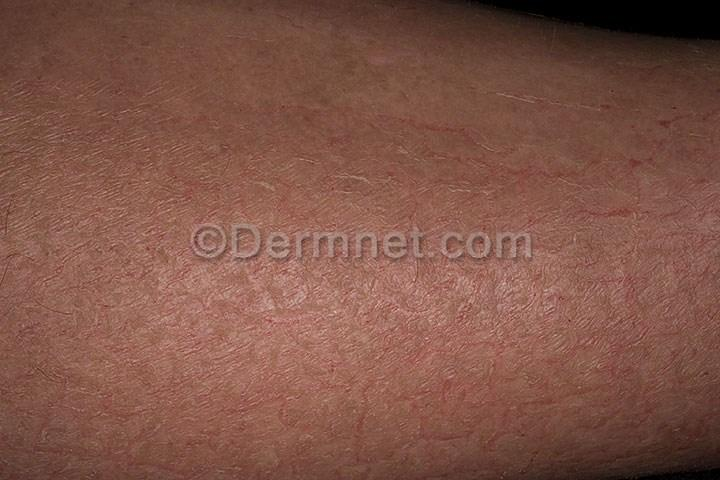Eczema: (0, 266, 717, 453), (0, 89, 531, 223), (537, 75, 720, 252)
